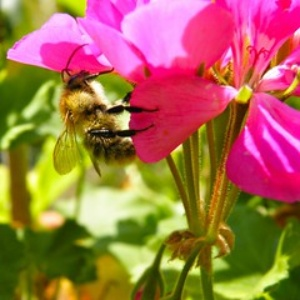bee: (50, 46, 162, 191)
